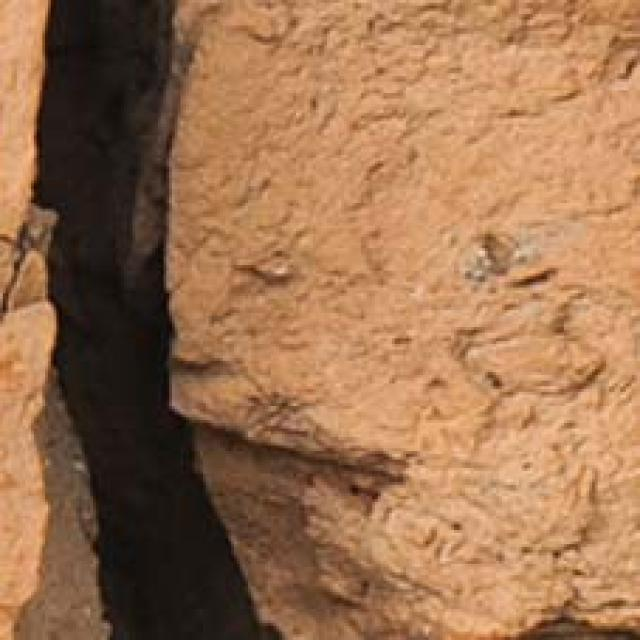Crack: (7, 0, 342, 640)
